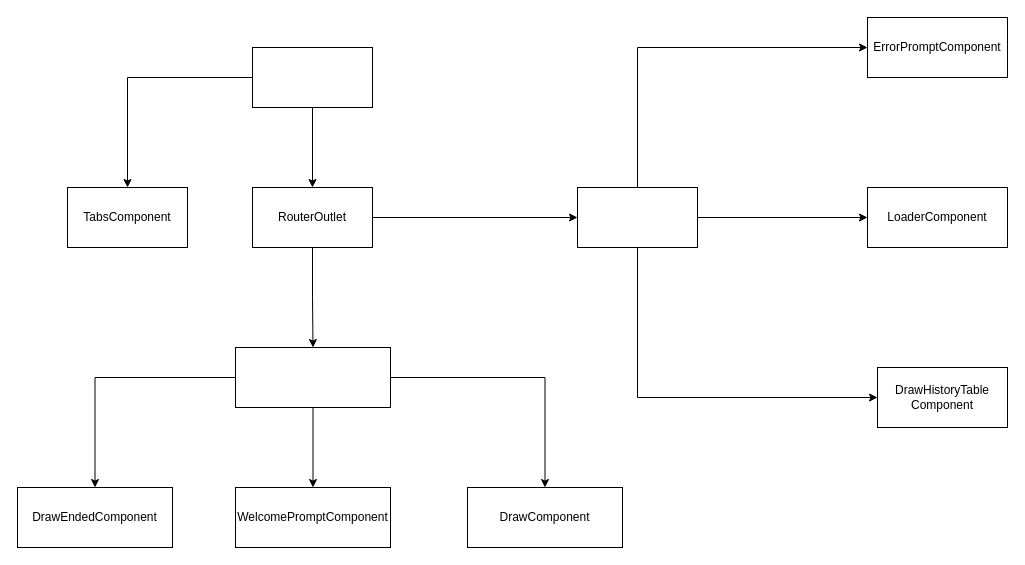
This 1025x565 diagram has some shape labels left out. The centre of each missing label's shape, as x and y in pixels:
"AppComponent" belongs at pixel 312 77.
"HistoryComponent" belongs at pixel 637 217.
"NumberDrawComponent" belongs at pixel 312 377.
